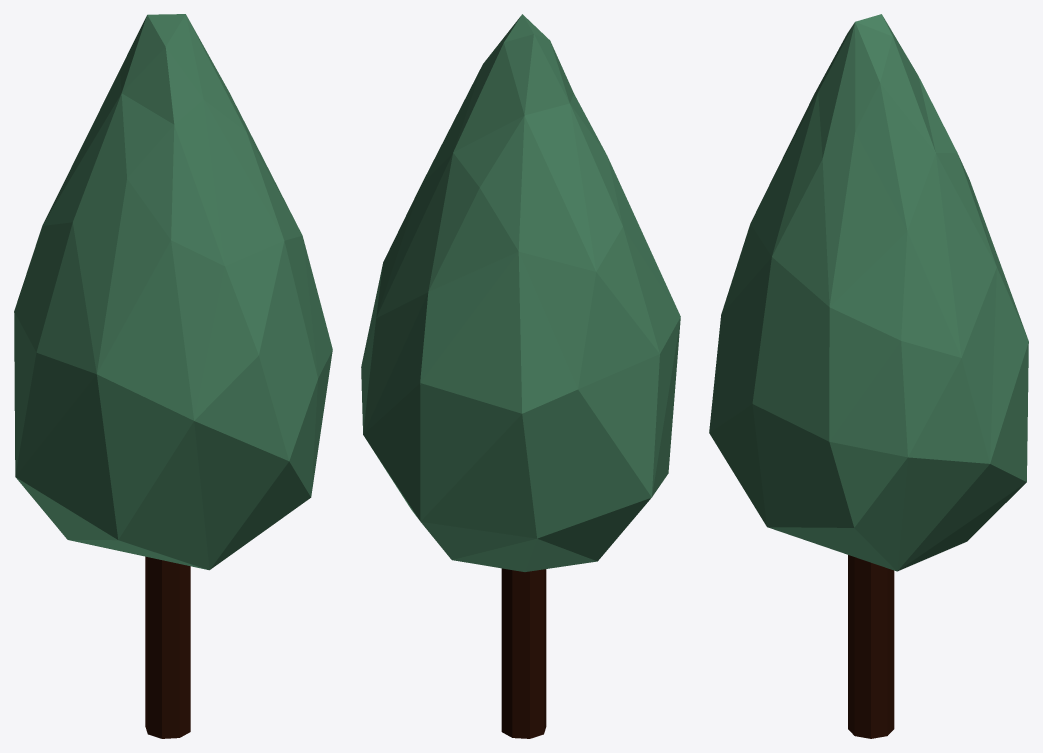
File: tree0.fbx
3 renders of one model, left to right at view 1: azimuth 30°, elevation 25°; view 2: azimuth 150°, elevation 25°; view 3: azimuth 270°, elevation 25°, orthographic.
Visible parts, largest first — view 1: tree038, tree039; view 2: tree038, tree039; view 3: tree038, tree039.
Boxes of the visible parts, x1,y1,x2,y2 form: tree038: (14,14,332,570); tree039: (145,556,190,738); tree038: (361,14,680,571); tree039: (501,568,546,738); tree038: (709,14,1028,571); tree039: (848,555,894,738).
Bounding box in the file's own units: 36.32 × 86.56 × 35.23.
